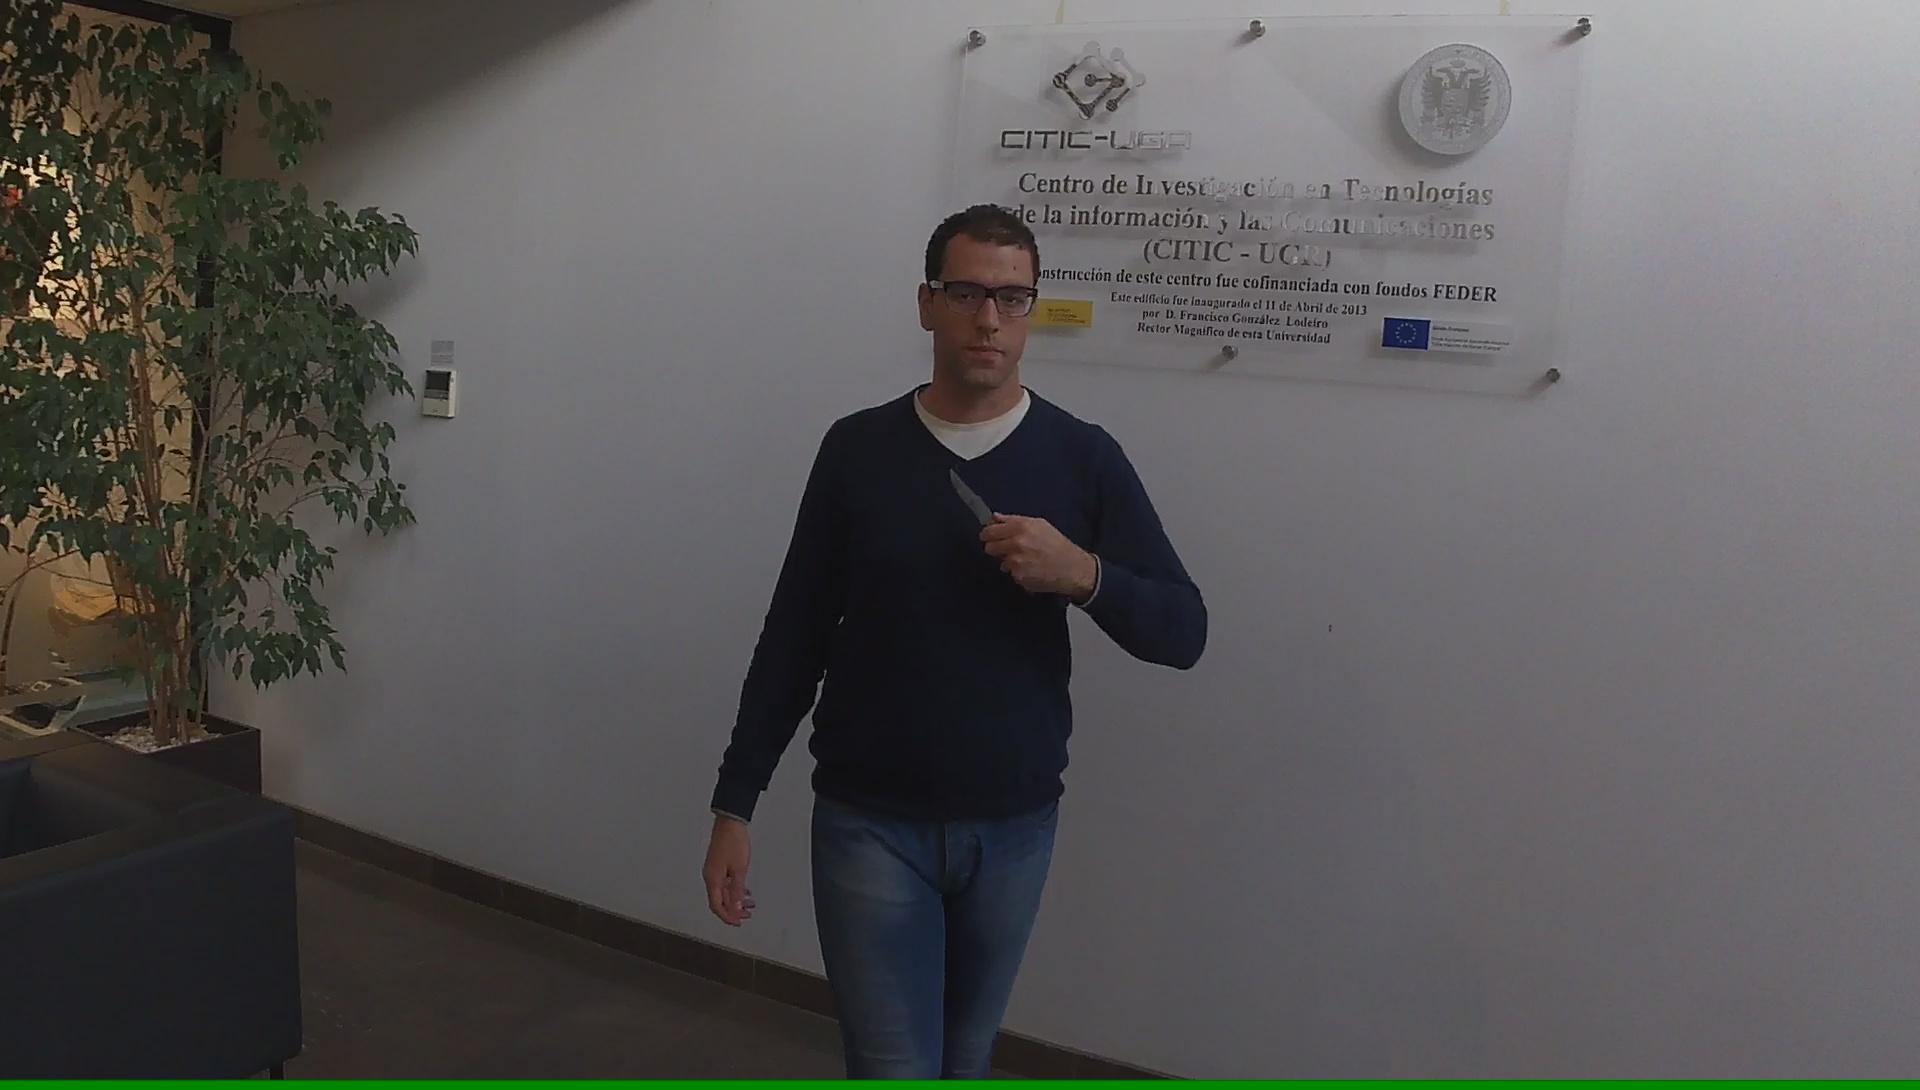knife: (943, 459, 1025, 565)
